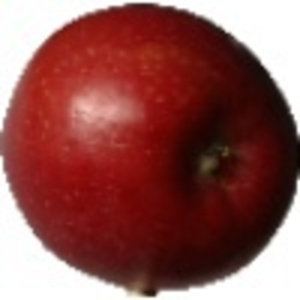maçã braeburn: (1, 1, 299, 289)
